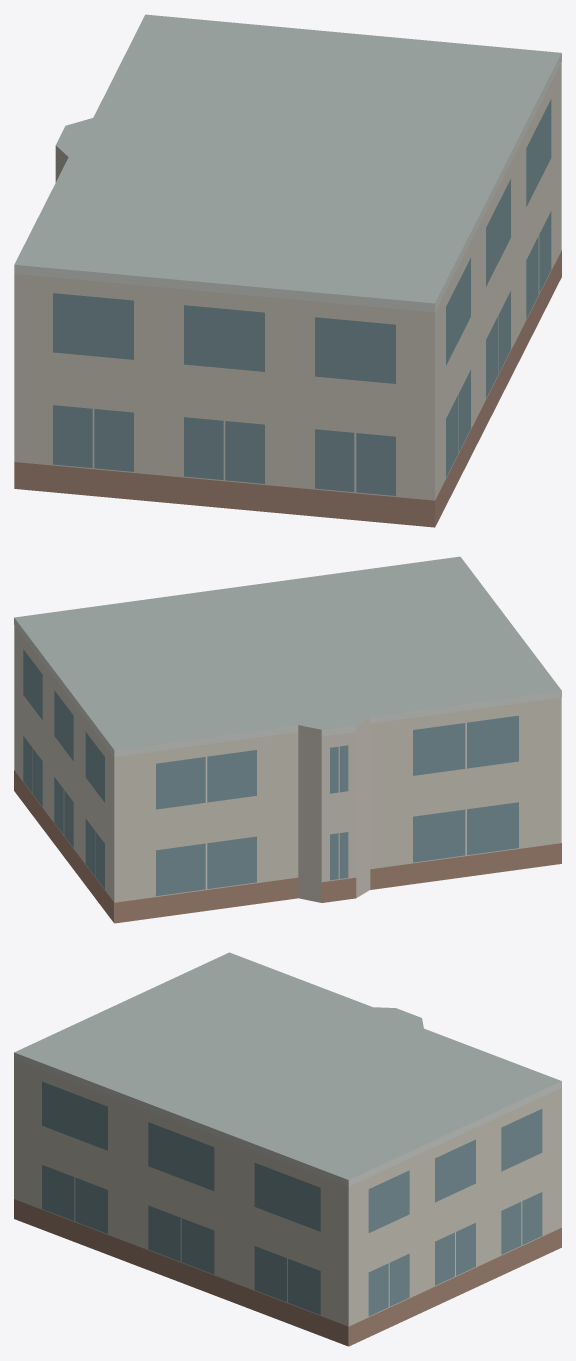
Rendered from survey-upis-32706793.glb.
3 views of the same model, one above another, from view 1: azimuth 30°, elevation 25°; view 2: azimuth 150°, elevation 25°; view 3: azimuth 270°, elevation 25° (orthographic). The views are drawn at different scales.
Parts seen in each view (by area): view 1: survey-upis-32706793.tmp; view 2: survey-upis-32706793.tmp; view 3: survey-upis-32706793.tmp.
Part boxes in pixels (x1,y1,x2,y2): survey-upis-32706793.tmp: [14, 14, 561, 527]; survey-upis-32706793.tmp: [14, 556, 561, 923]; survey-upis-32706793.tmp: [14, 952, 561, 1346].
Bounding box in the file's own units: 17.9 × 6.1 × 18.2.
